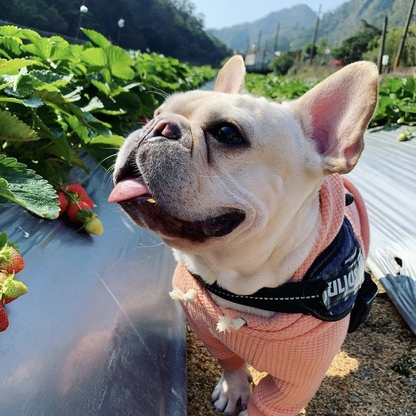bulldog: (106, 53, 382, 415)
